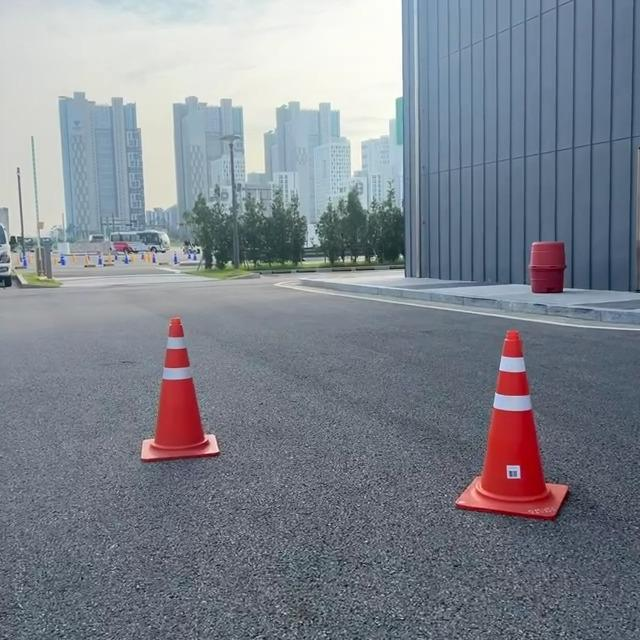fallen_object: (415, 316, 625, 568), (89, 255, 254, 539)
